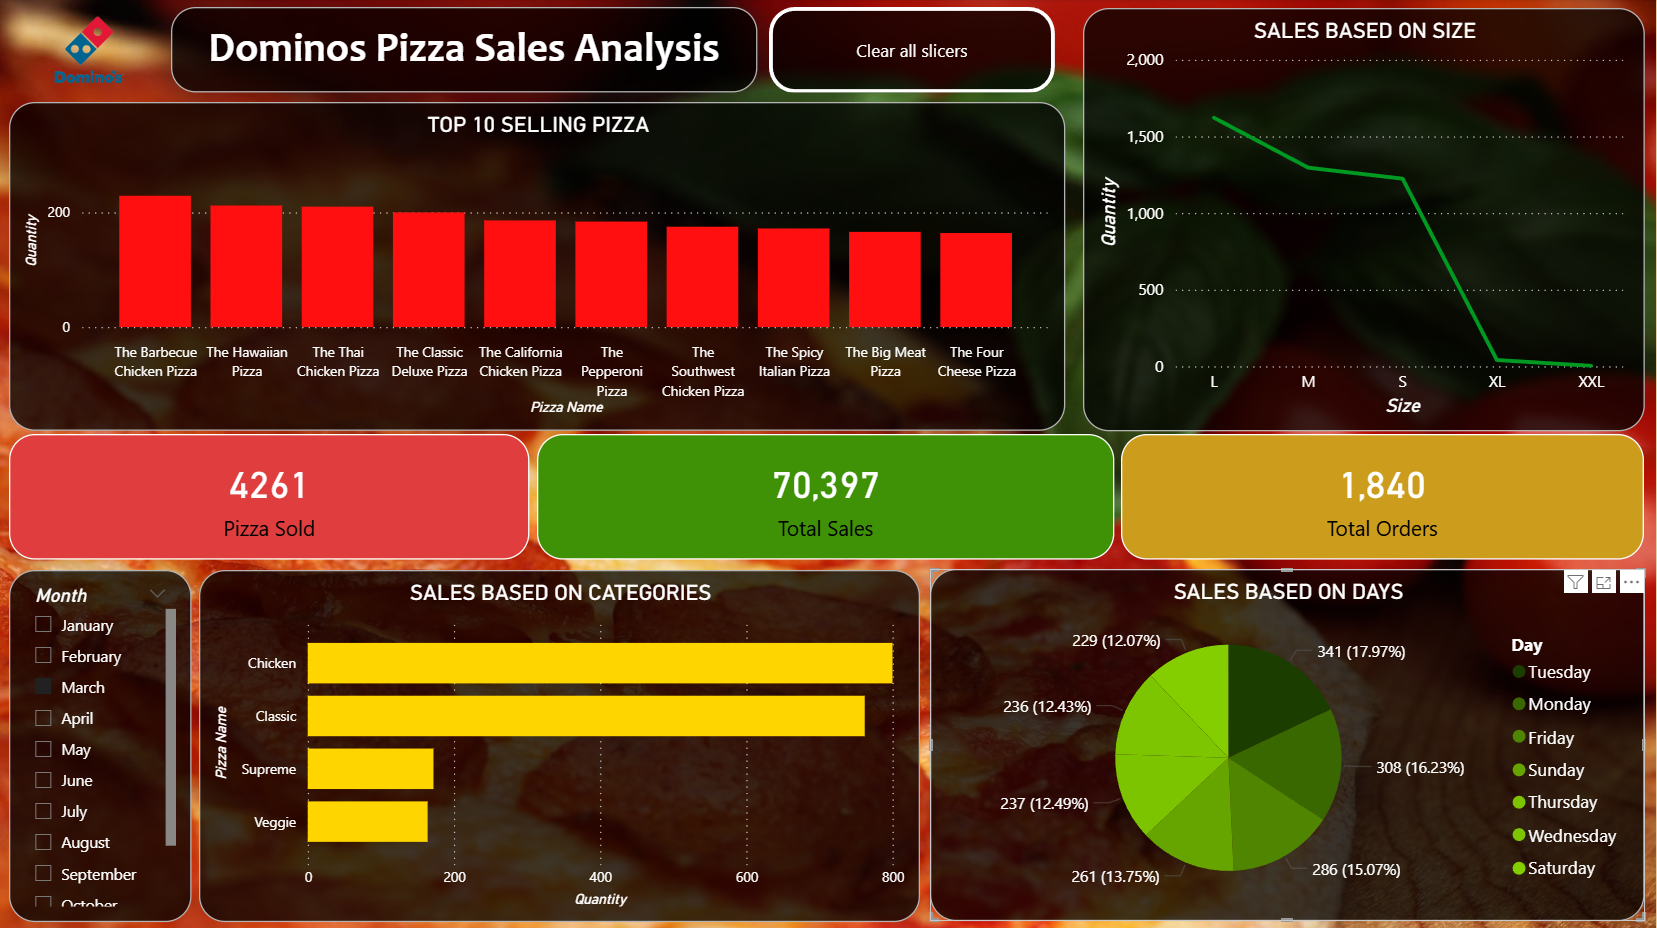

The dashboard page shown, as its layout file describes it:
{"tool":"powerbi","page":{"name":"Page 1","canvas":[1280,720],"ordinal":0},"visuals":[{"type":"textbox","box":[132.1,6.4,452.9,66.1],"z":1000},{"type":"columnChart","title":"TOP 10 SELLING PIZZA","fields":{"Category":["pizza_sales1.pizza_name"],"Y":["CountNonNull(pizza_sales1.quantity)"]},"box":[6.8,79.8,816,253.9],"z":2000},{"type":"lineChart","title":"SALES BASED ON SIZE","fields":{"Category":["pizza_sales1.pizza_size"],"Y":["CountNonNull(pizza_sales1.pizza_size)"]},"box":[836.5,6.8,433.8,326.8],"z":3000},{"type":"card","title":"Total Sales","fields":{"Values":["Sum(pizza_sales1.quantity)"]},"box":[6.9,336.4,401.9,96.6],"z":4000},{"type":"card","title":"Total Sales","fields":{"Values":["Sum(pizza_sales1.total_price)"]},"box":[414.6,336.1,446,96.6],"z":5000},{"type":"card","title":"Total Sales","fields":{"Values":["Count(pizza_sales1.order_id)"]},"box":[866.2,336.1,403.6,96.6],"z":6000},{"type":"slicer","fields":{"Values":["pizza_sales1.order_date.Variation.Date Hierarchy.Month"]},"box":[7,441.1,140.6,271.9],"z":7000},{"type":"actionButton","box":[594.3,6,220.8,66.4],"z":8000},{"type":"barChart","title":"SALES BASED ON CATEGORIES","fields":{"Y":["CountNonNull(pizza_sales1.quantity)"],"Category":["pizza_sales1.pizza_category"]},"box":[153.9,441.3,556.8,271.7],"z":9000},{"type":"pieChart","title":"SALES BASED ON DAYS","fields":{"Category":["pizza_sales1.day"],"Y":["CountNonNull(pizza_sales1.quantity)"]},"box":[718.5,440.5,552,271.7],"z":10000},{"type":"image","box":[0,0,138.3,79.6],"z":10001}]}

Visuals, with their boxes in screenshot pixels (x1, y1, x2, y2), scaled from the page's 1280x720 canvas onto the 1657x928 screenshot:
textbox: crop(171, 8, 757, 93)
"TOP 10 SELLING PIZZA" columnChart: crop(9, 103, 1065, 430)
"SALES BASED ON SIZE" lineChart: crop(1083, 9, 1644, 430)
"Total Sales" card: crop(9, 434, 529, 558)
"Total Sales" card: crop(537, 433, 1114, 558)
"Total Sales" card: crop(1121, 433, 1644, 558)
slicer - pizza_sales1.order_date.Variation.Date Hierarchy.Month: crop(9, 569, 191, 919)
actionButton: crop(769, 8, 1055, 93)
"SALES BASED ON CATEGORIES" barChart: crop(199, 569, 920, 919)
"SALES BASED ON DAYS" pieChart: crop(930, 568, 1645, 918)
image: crop(0, 0, 179, 103)
